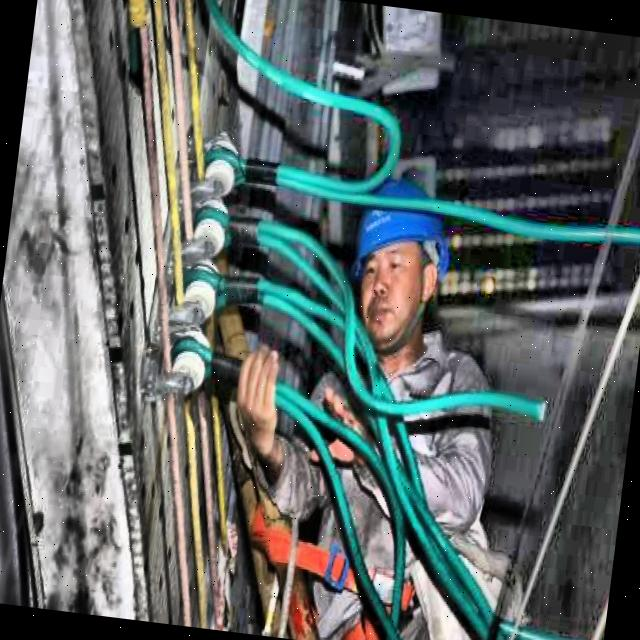helmet: (334, 168, 464, 359)
